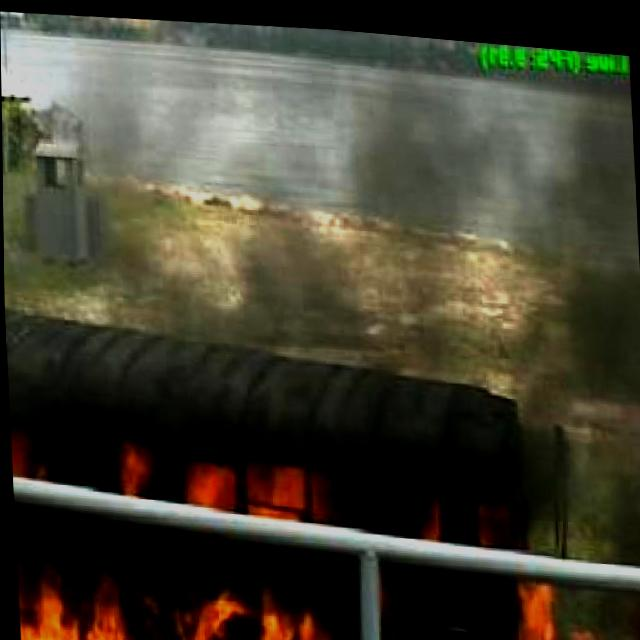helmet: (14, 539, 331, 640), (143, 453, 343, 532), (8, 418, 164, 487), (501, 569, 638, 640), (409, 481, 516, 541)
no_helmet: (41, 21, 640, 488)
